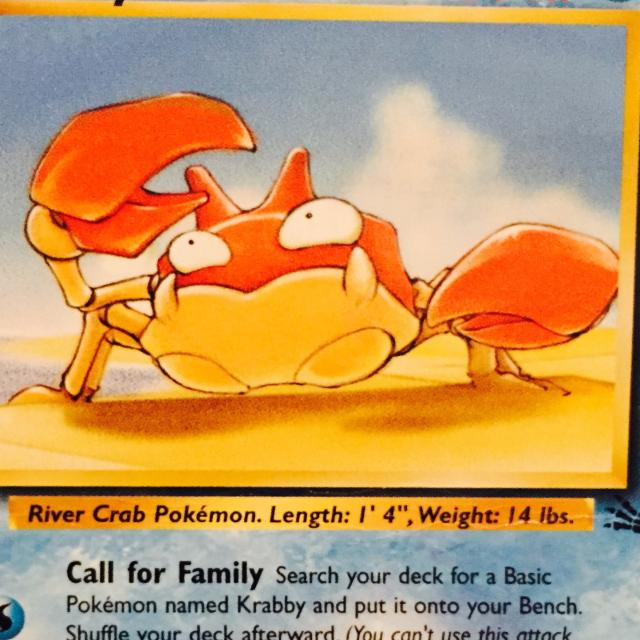Krabby: (5, 90, 574, 383)
